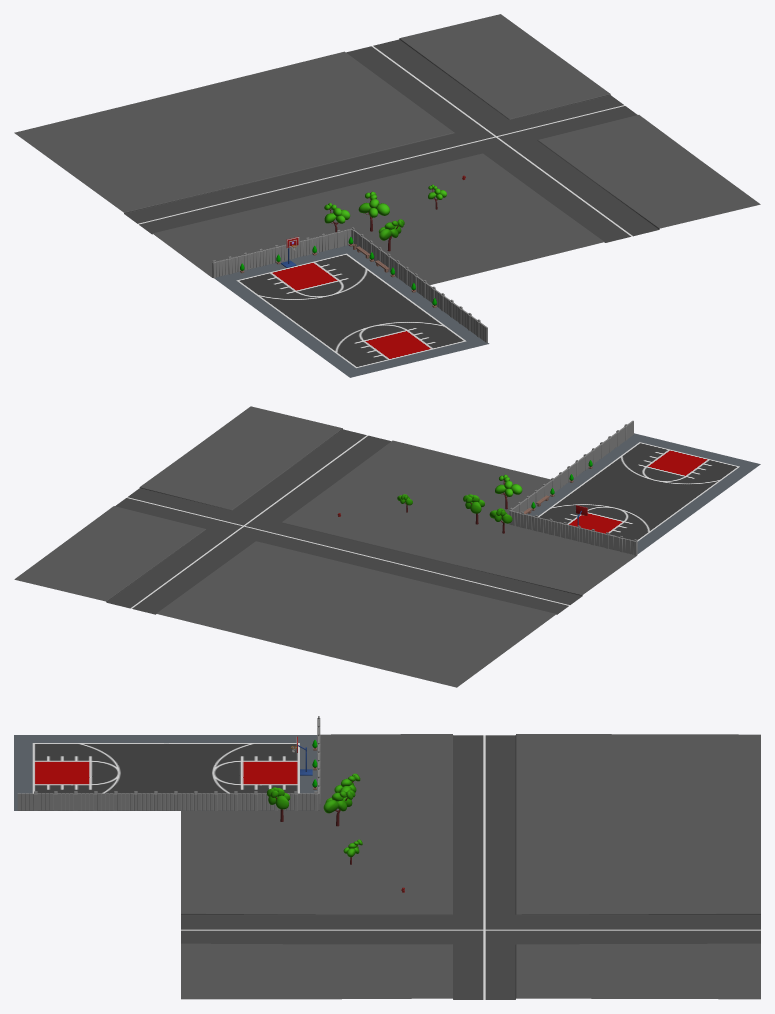
File: Pitch 1.fbx
The picture shows the model from 3 angles, top to bottom: view 1: azimuth 30°, elevation 25°; view 2: azimuth 150°, elevation 25°; view 3: azimuth 270°, elevation 25°; orthographic projection. The views are drawn at different scales.
Parts seen in each view (by area): view 1: Road, Basketball_Court, Fence.001, Fence; view 2: Road, Basketball_Court, Fence, Fence.001; view 3: Road, Basketball_Court, Fence.001, Trees.
Boxes of the visible parts, x1=… form: Road: x1=14, y1=14, x2=760, y2=284; Basketball_Court: x1=214, y1=245, x2=489, y2=377; Fence.001: x1=351, y1=227, x2=487, y2=342; Fence: x1=212, y1=228, x2=351, y2=278; Road: x1=14, y1=406, x2=636, y2=687; Basketball_Court: x1=526, y1=433, x2=760, y2=553; Fence: x1=509, y1=510, x2=637, y2=555; Fence.001: x1=509, y1=420, x2=633, y2=512; Road: x1=181, y1=734, x2=760, y2=999; Basketball_Court: x1=14, y1=735, x2=317, y2=810; Fence.001: x1=17, y1=791, x2=317, y2=810; Trees: x1=323, y1=790, x2=355, y2=826.
Size of the model in its own units: 67.14 by 4.53 by 80.07.
Materials: 12 (3 with a texture image).
